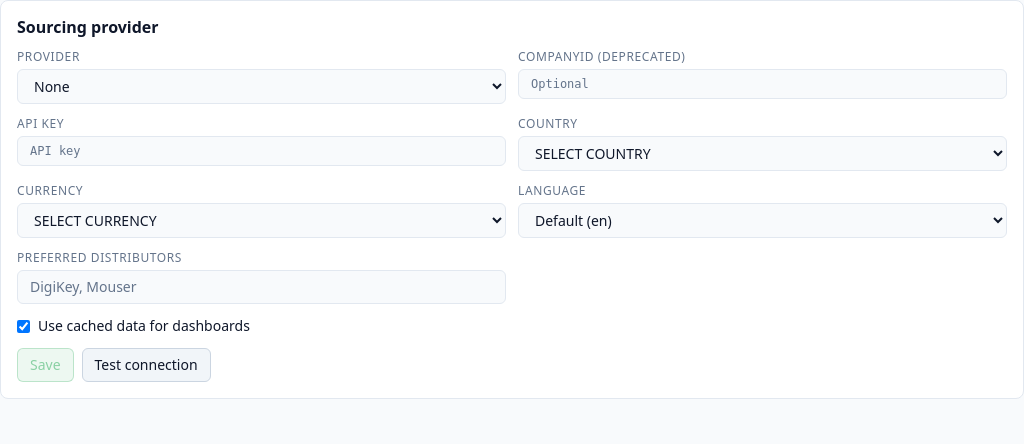
Test: SourcingCard › surfaces test-connection result on success
Click the button "Test connection" at (146, 365), box [82, 348, 211, 382]
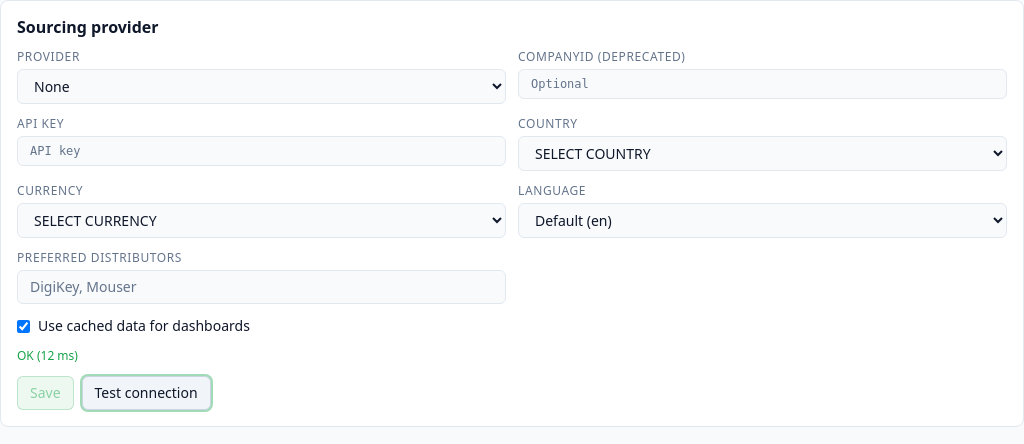
expect the message reads "OK (12 ms)": met, box [17, 347, 78, 364]
